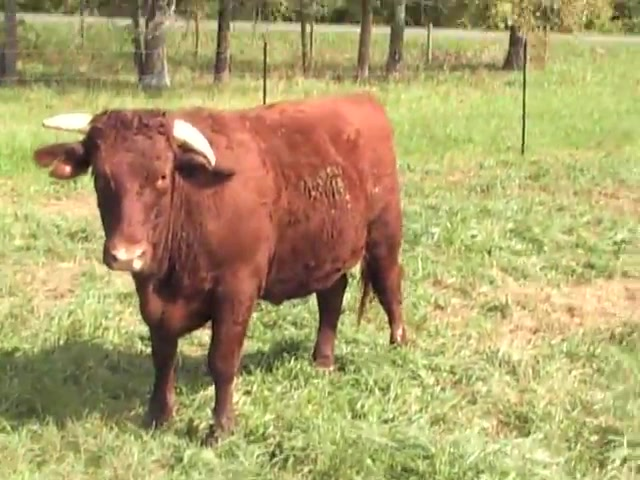cow: (35, 94, 406, 434)
